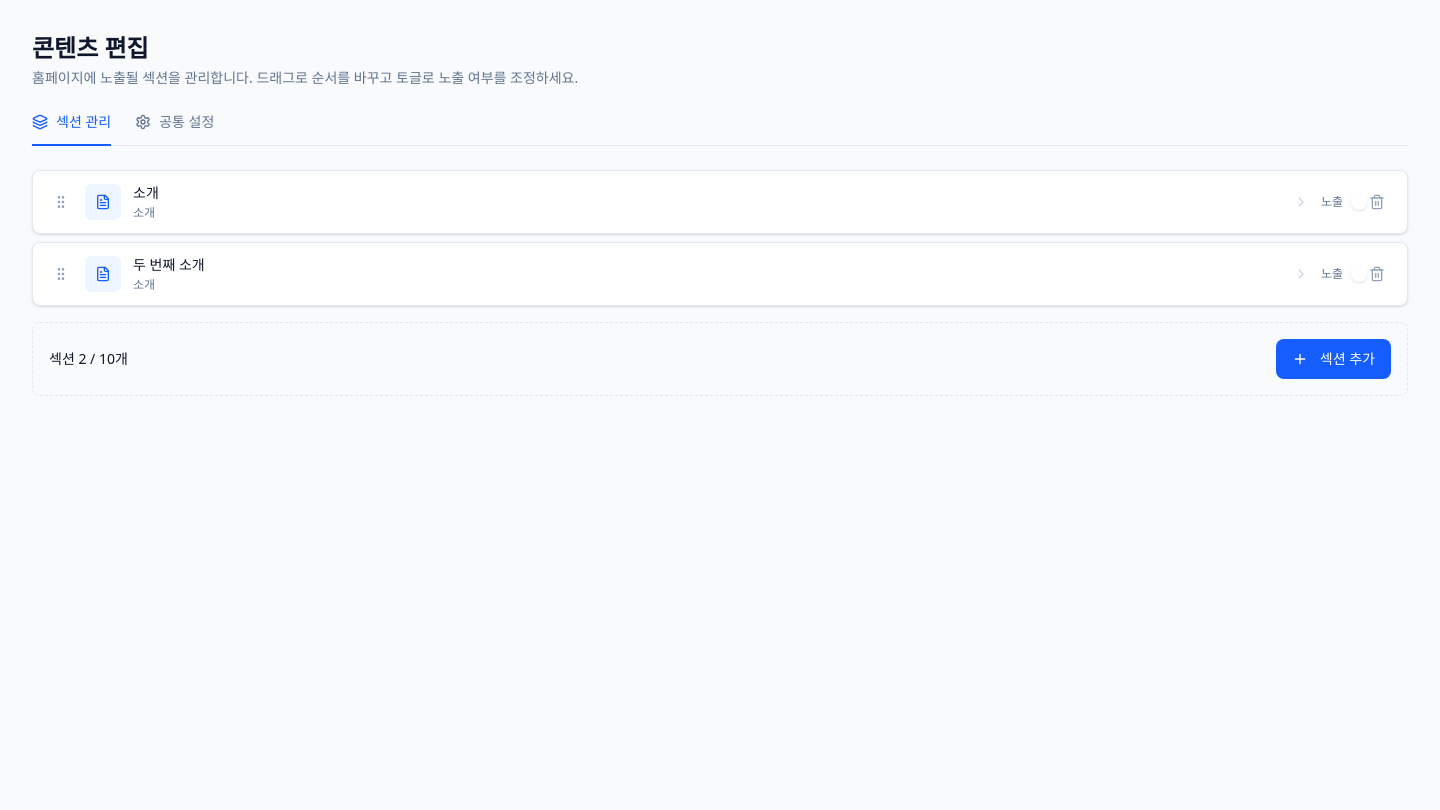
Test: 섹션 추가 › 사용량을 보여 주고, 종류 · 이름을 골라 추가하면 목록에 나타난다
Expected: the text "섹션 2 / 10개" is shown, [49,349,128,368]
Step 1. Click the button "섹션 추가" → click(1333, 359), box [1276,339,1391,379]
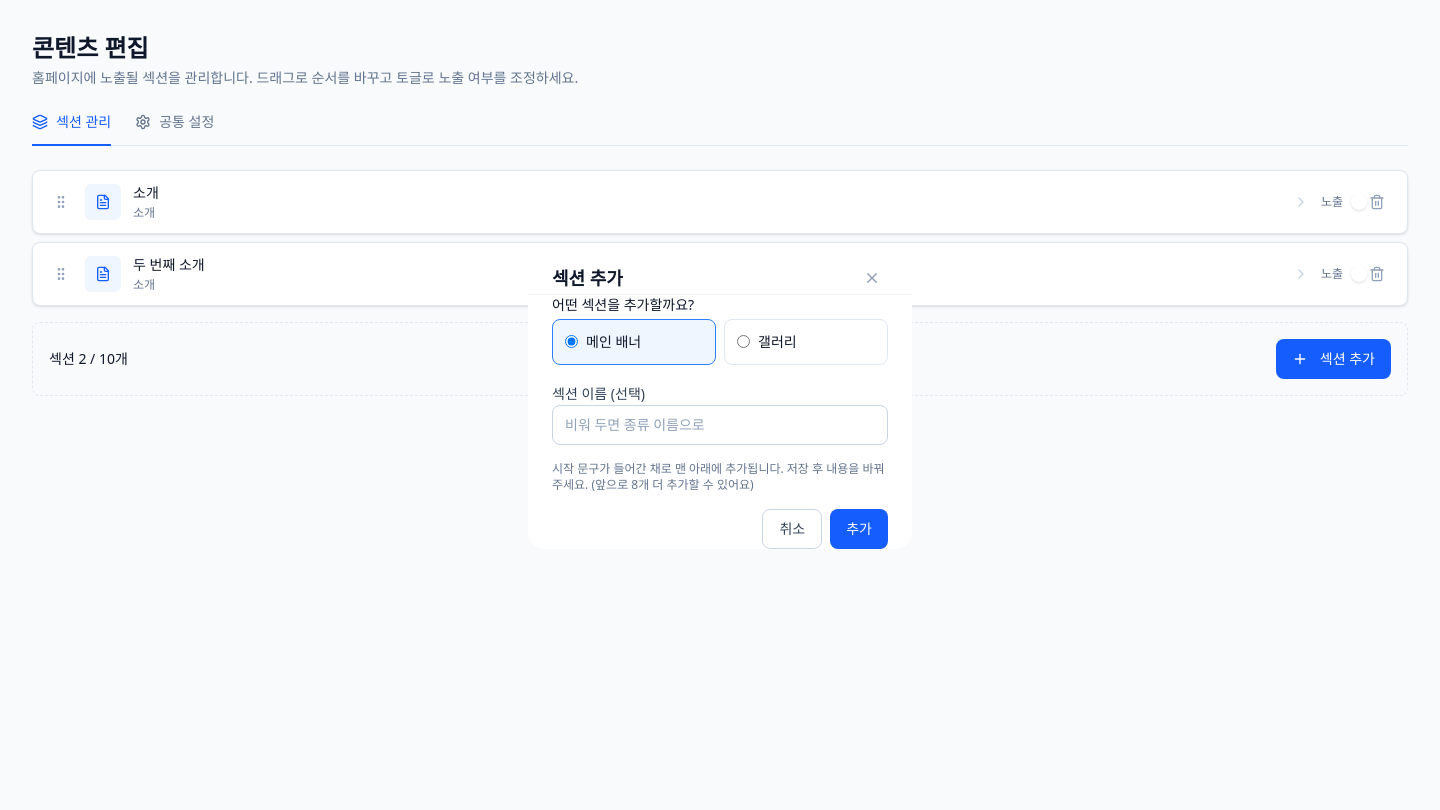
Step 2. Click the radio button labelled "갤러리" → click(744, 342), box [737,335,750,348]
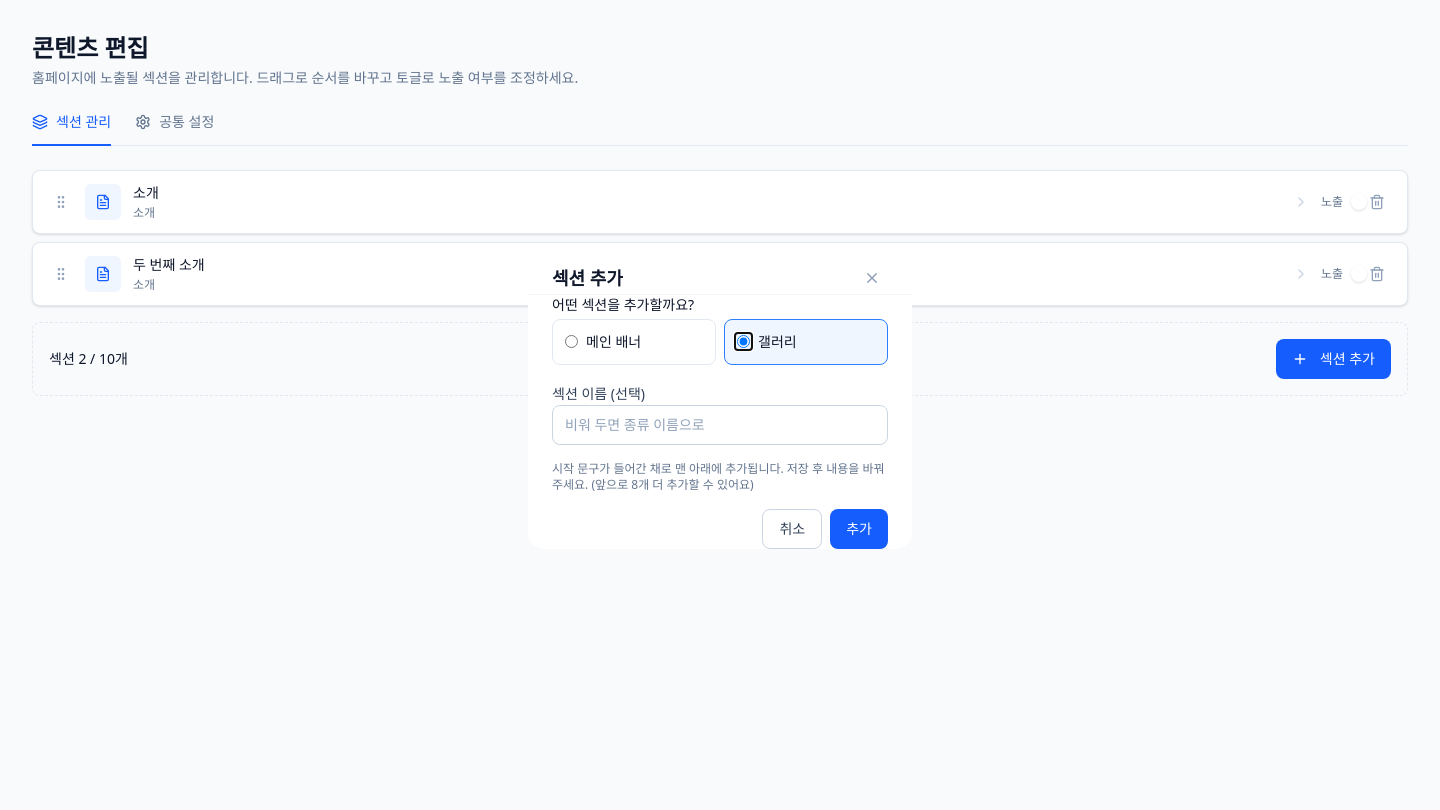
Step 3. Type "시설 사진" into the field labelled "섹션 이름 (선택)" → (720, 424), box [552,404,888,444]
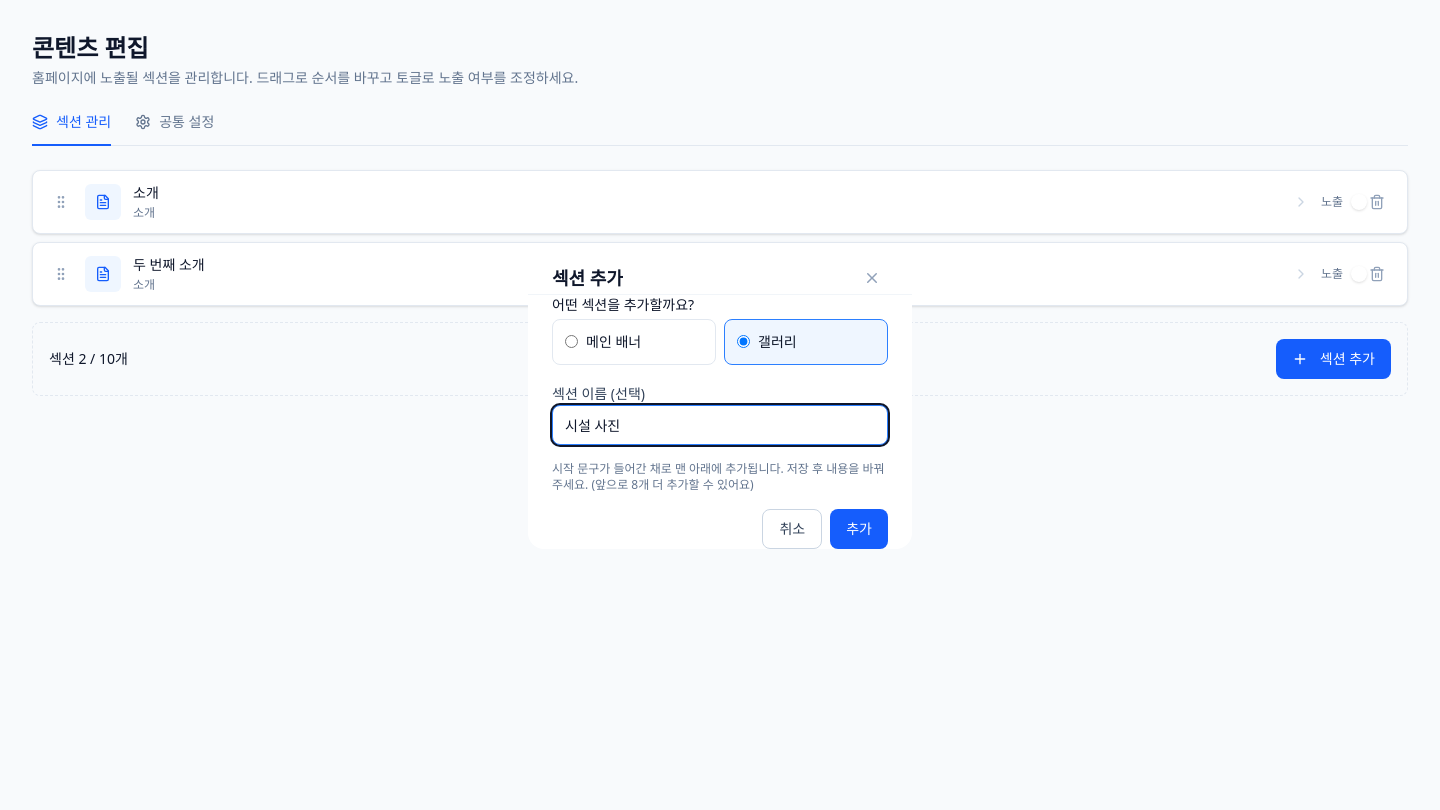
Expected: the text "8개 더 추가할 수 있어요" is shown, [588,476,754,492]
Step 4. Click the button "추가" → click(859, 528), box [830,508,888,548]
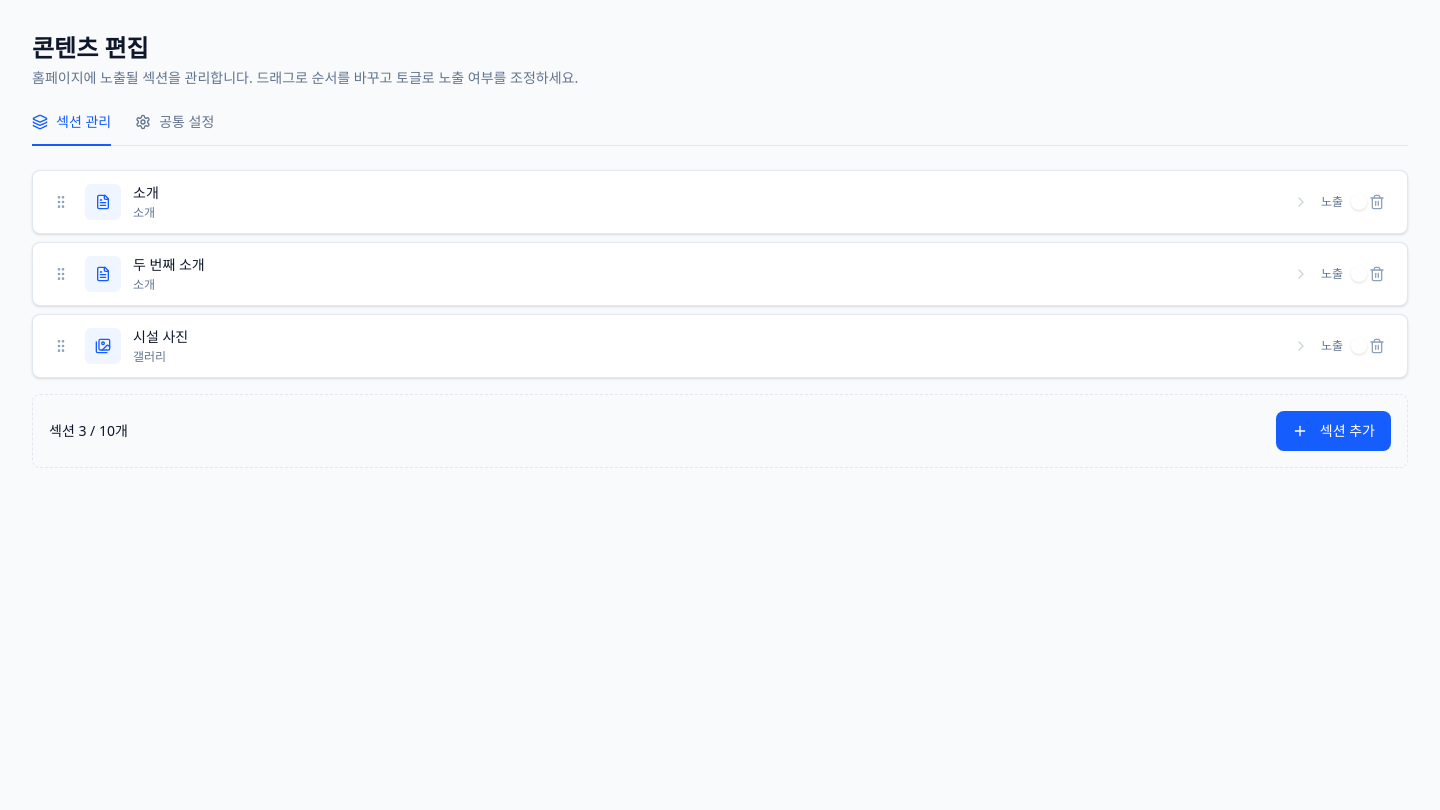
Expected: the text "시설 사진" is shown, [133,327,188,347]
Expected: the text "섹션 3 / 10개" is shown, [49,421,128,440]
